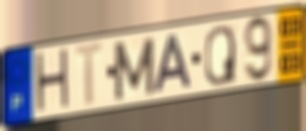9: (242, 15, 274, 85)
A: (152, 31, 194, 96)
H: (34, 46, 72, 118)
M: (111, 35, 156, 103)
Q: (203, 23, 238, 88)
T: (72, 39, 108, 111)
